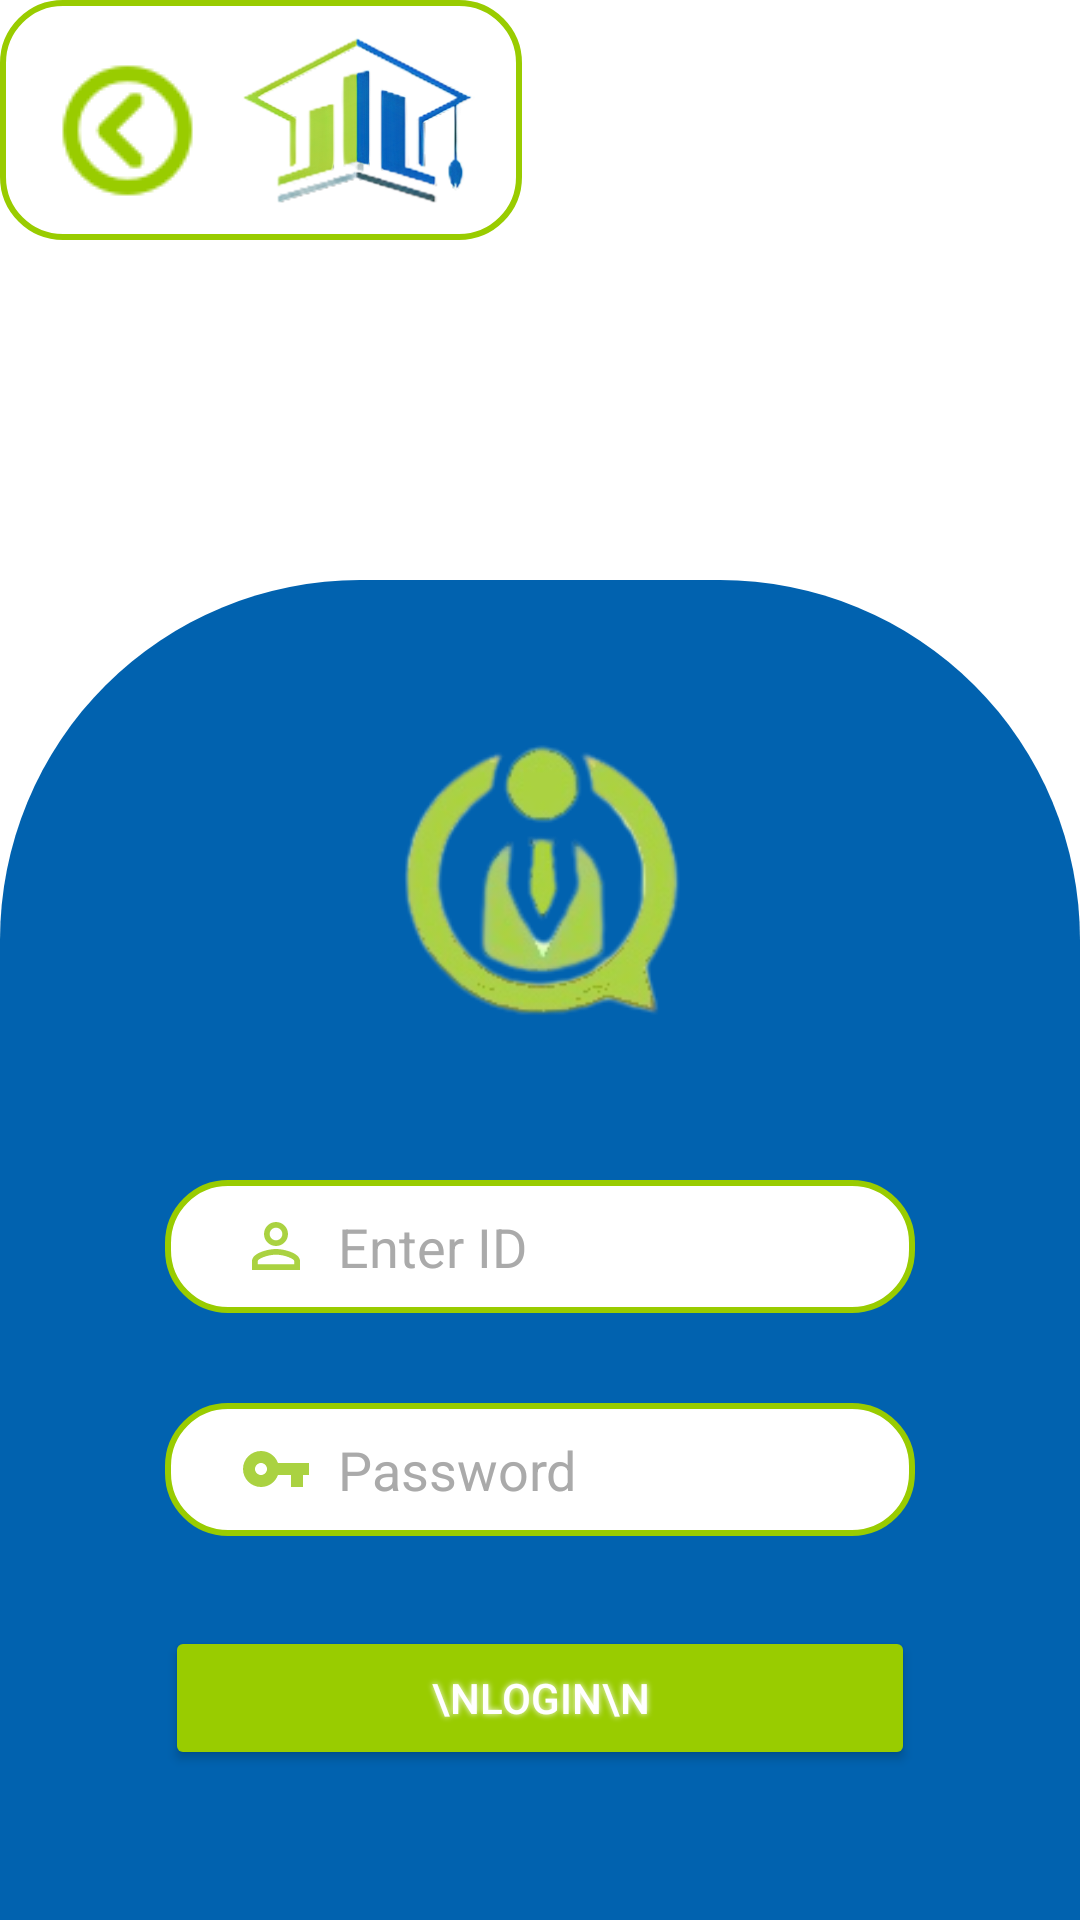

Where icons sit on this 1080x1920 app screen, as [x1,y1,x2,y2]:
back: [62,65,193,196]
